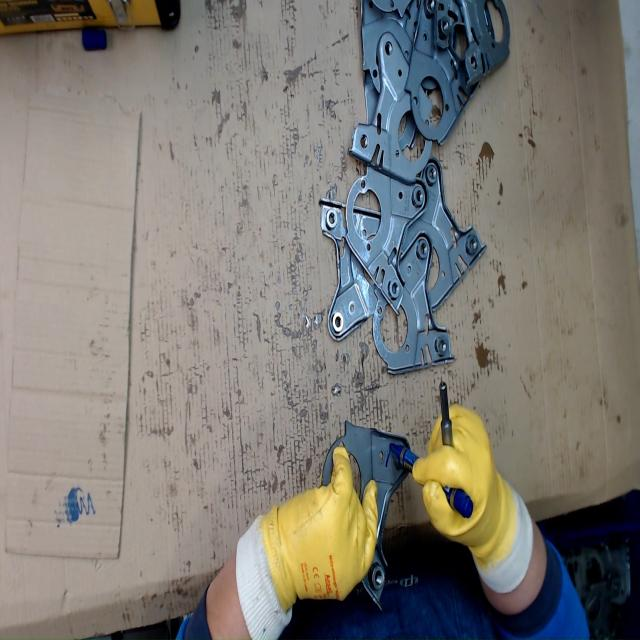hands: (265, 445, 379, 609), (411, 402, 515, 553)
